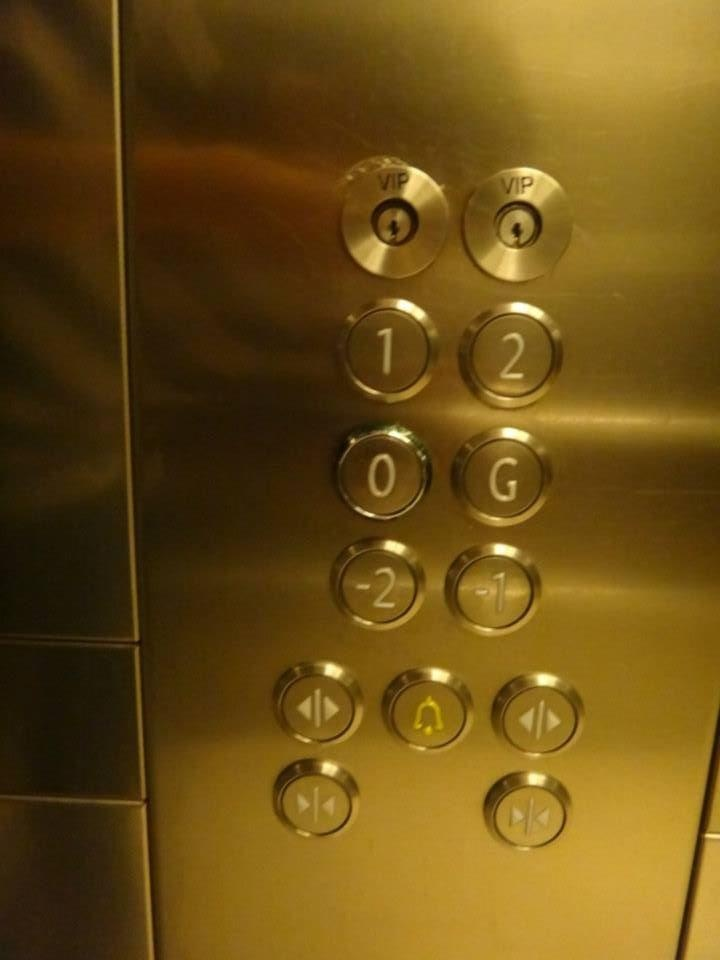-1: (436, 538, 547, 642)
-2: (323, 532, 430, 637)
0: (329, 418, 436, 525)
1: (326, 294, 445, 410)
2: (450, 298, 569, 414)
G: (445, 422, 561, 532)
alarm: (374, 660, 481, 760)
close: (262, 750, 369, 850), (474, 761, 581, 861)
keyhole: (330, 158, 455, 288), (451, 160, 576, 290)
open: (485, 666, 592, 766), (263, 657, 370, 757)
